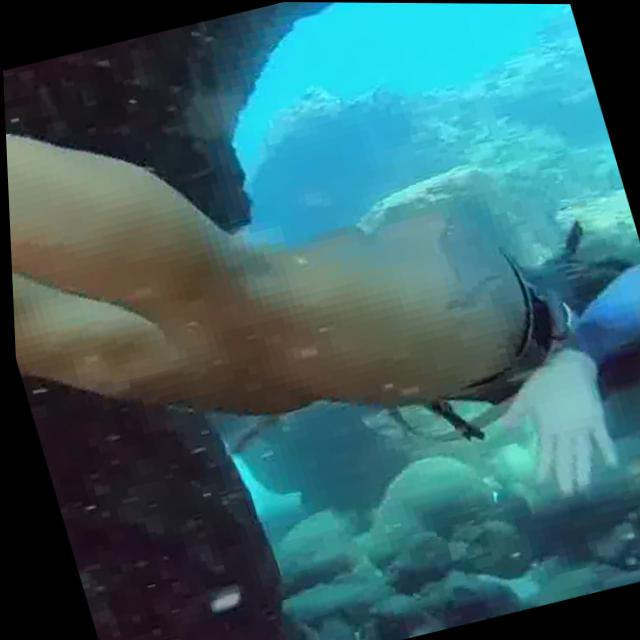human: (0, 0, 640, 609)
